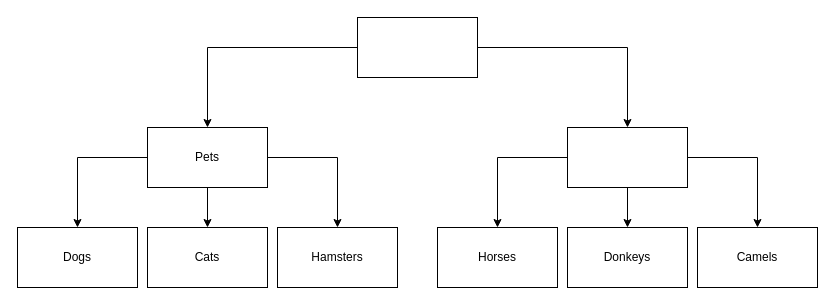
Image size: 835x305. Some labels were removed from this diagram. The shapes that lost their labels are listed below. From the top down, each one's box as (x1, y1, x2, y2) in pixels, then its label:
(356, 16, 478, 78): Аnimals
(566, 126, 688, 188): Packs
